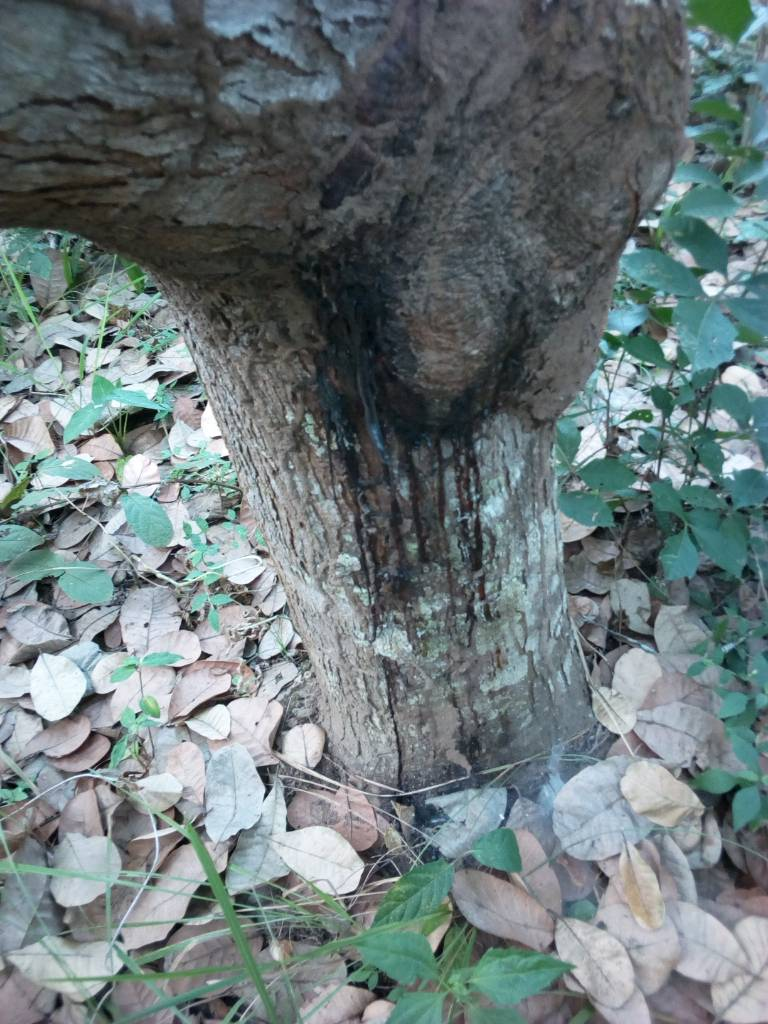Mecocorynus longiceps: (250, 205, 524, 633)
